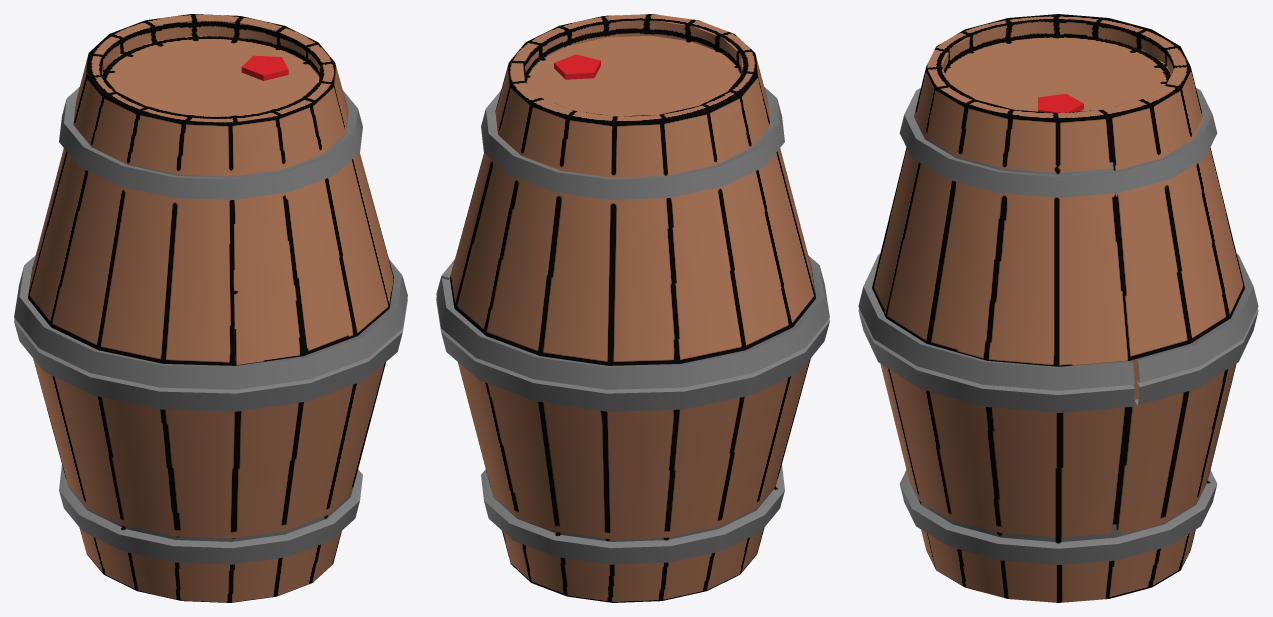
File: Barell.fbx
3 views of the same model, side by side, from view 1: azimuth 30°, elevation 25°; view 2: azimuth 150°, elevation 25°; view 3: azimuth 270°, elevation 25° (orthographic).
Parts seen in each view (by area): view 1: Circle; view 2: Circle; view 3: Circle.
Boxes of the visible parts, box(x1,y1,x2,y2) form: Circle: box(14, 14, 407, 602); Circle: box(436, 14, 829, 602); Circle: box(858, 14, 1258, 602).
Size of the model in its own units: 90 by 120 by 90.
